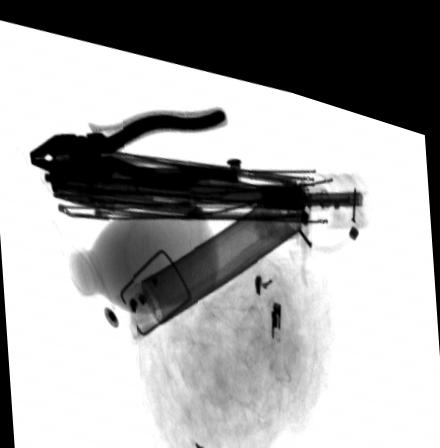Pliers: (27, 90, 243, 183)
